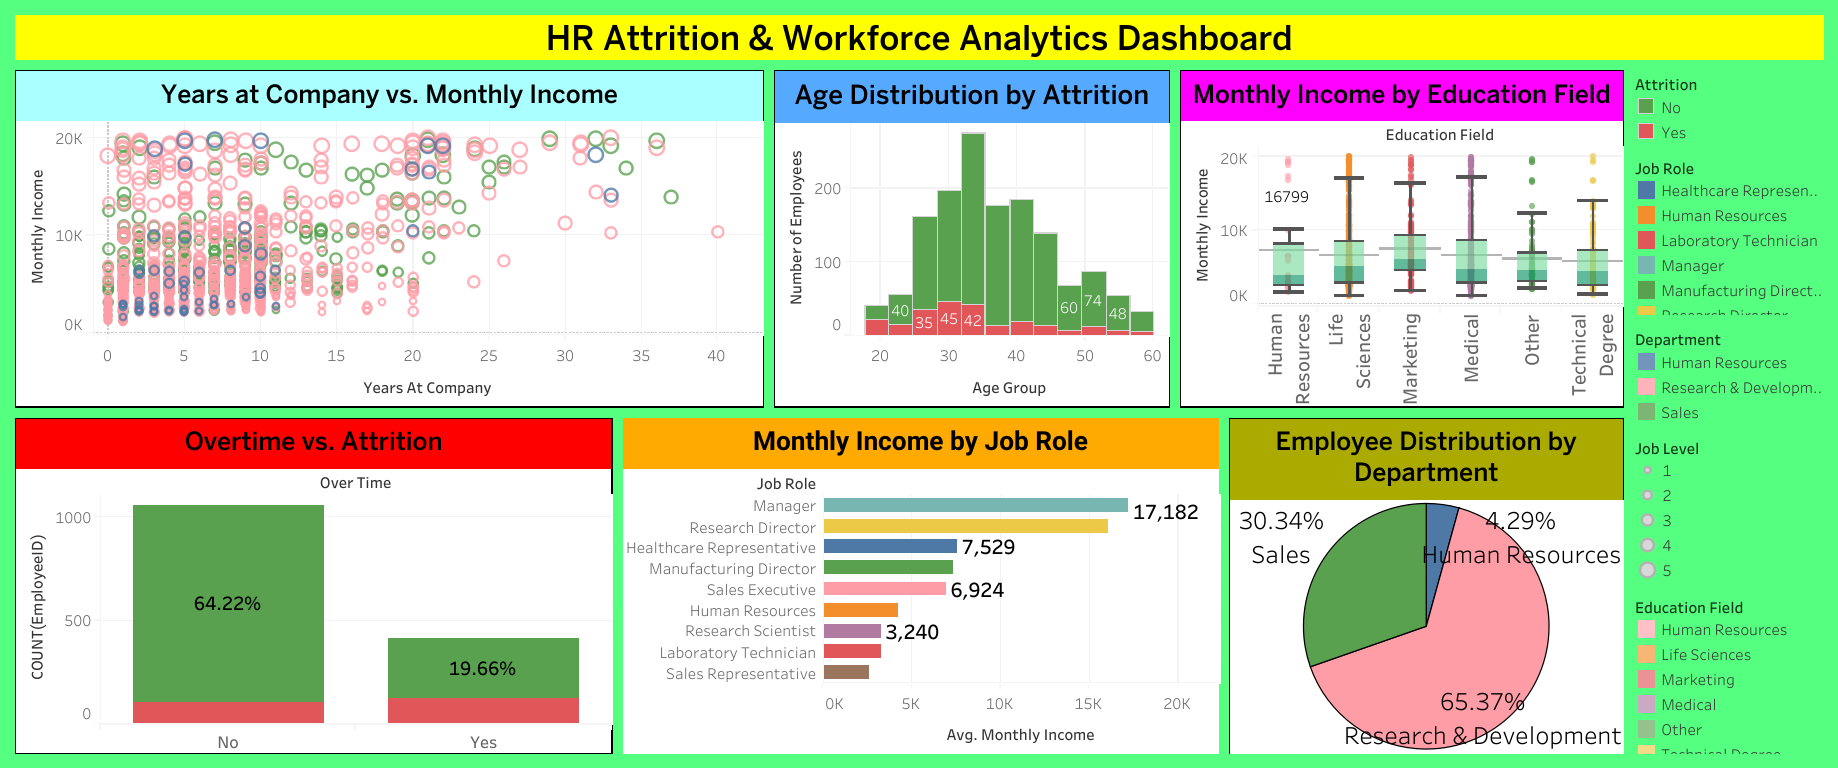

What the dashboard file says about the page in this screenshot:
{"tool":"tableau","page":{"name":"Dashboard ","canvas":[1000,1000],"units":"permille","ordinal":0},"visuals":[{"type":"text","box":[4.8,9.4,990.3,72.9]},{"type":"worksheet","title":"Scatter plot","mark":"Automatic","rows":["MonthlyIncome"],"cols":["YearsAtCompany"],"box":[4.8,82.3,418.6,454.2]},{"type":"worksheet","title":"Histogram","mark":"Automatic","rows":["Calculation_1616894746423297"],"cols":["Age (bin)"],"box":[423.4,82.3,224.4,454.2]},{"type":"worksheet","title":"Box Plot","mark":"Circle","rows":["MonthlyIncome"],"cols":["EducationField"],"box":[647.8,82.3,250.8,454.2]},{"type":"legend","title":"Histogram","param":"[federated.142nlk10mo04bz1428txx0o02eqx].[none:Attrition:nk]","box":[898.6,82.3,96.6,84.6]},{"type":"legend","title":"Bar chart","param":"[federated.142nlk10mo04bz1428txx0o02eqx].[none:JobRole:nk]","box":[898.6,166.9,96.6,257.3]},{"type":"legend","title":"Scatter plot","param":"[federated.142nlk10mo04bz1428txx0o02eqx].[none:Department:nk]","box":[898.6,424.2,96.6,109.3]},{"type":"legend","title":"Scatter plot","param":"[federated.142nlk10mo04bz1428txx0o02eqx].[sum:JobLevel:qk]","box":[898.6,533.5,96.6,158.6]},{"type":"worksheet","title":"Stacked Bar Chart","mark":"Automatic","rows":["Calculation_1616894746423297"],"cols":["OverTime"],"box":[4.8,536.4,335.2,454.2]},{"type":"worksheet","title":"Bar chart","mark":"Automatic","rows":["JobRole"],"cols":["MonthlyIncome"],"box":[340,536.4,335.2,454.2]},{"type":"worksheet","title":"Pie Chart","mark":"Pie","box":[675.2,536.4,223.4,454.2]},{"type":"legend","title":"Box Plot","param":"[federated.142nlk10mo04bz1428txx0o02eqx].[none:EducationField:nk]","box":[898.6,692.1,96.6,183.3]}]}

Visuals, with their boxes on the dashboard's canvas, which has no fixed pixel size, in thousandths of its width and height (x1, y1, x2, y2). These are canvas units, not pixel positions in the 1838x768 screenshot, which may show the page scaled, cropped or inside an application window:
text: 5 9 995 82
"Scatter plot" worksheet: 5 82 423 536
"Histogram" worksheet: 423 82 648 536
"Box Plot" worksheet (Circle marks): 648 82 899 536
"Histogram" legend: 899 82 995 167
"Bar chart" legend: 899 167 995 424
"Scatter plot" legend: 899 424 995 534
"Scatter plot" legend: 899 534 995 692
"Stacked Bar Chart" worksheet: 5 536 340 991
"Bar chart" worksheet: 340 536 675 991
"Pie Chart" worksheet (Pie marks): 675 536 899 991
"Box Plot" legend: 899 692 995 875
